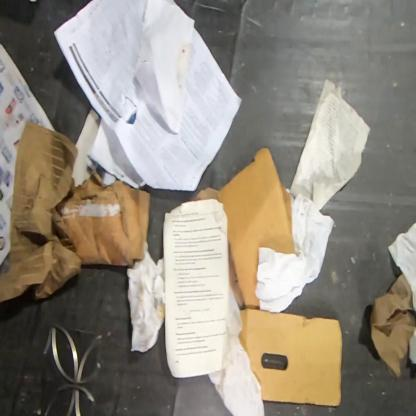cardboard: (0, 120, 151, 304), (191, 147, 297, 309), (236, 309, 342, 407)
metal: (42, 320, 104, 415)
